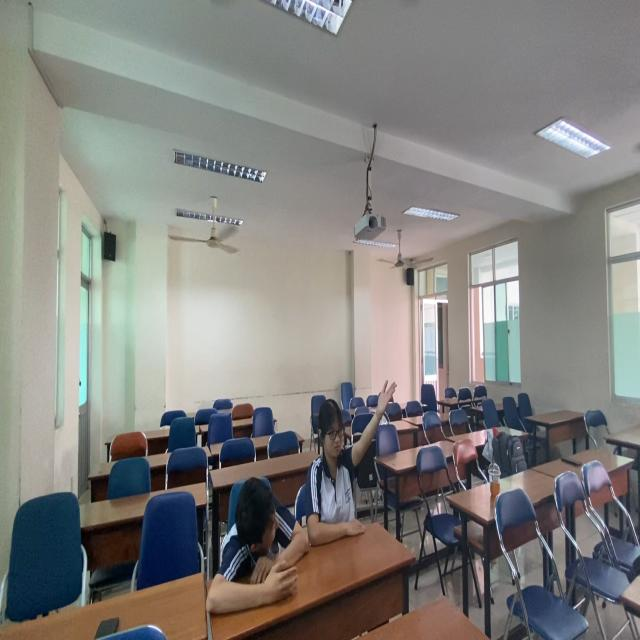raise_hand: (304, 368, 399, 548)
sleep: (199, 472, 308, 602)
